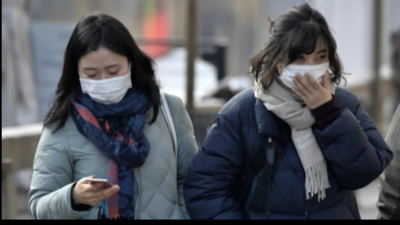with_mask: (278, 47, 330, 93), (78, 60, 131, 102)
